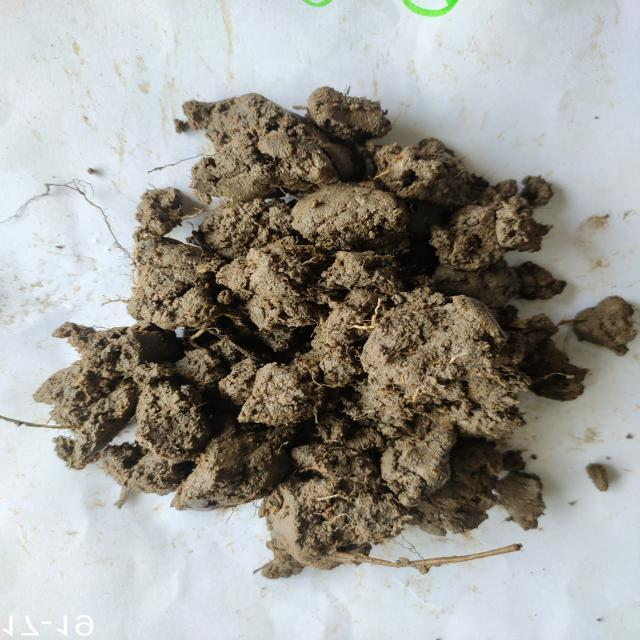soil: (169, 194, 495, 506)
